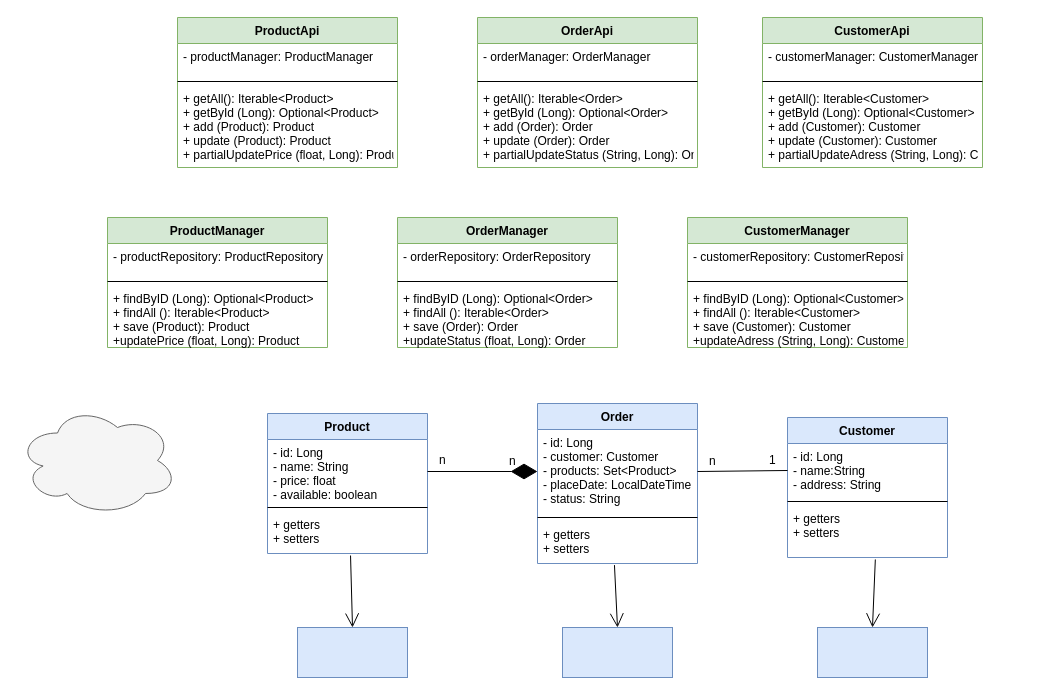
This 1038x695 diagram has some shape labels left out. Here are the shapes that lost their labels. From the top down, the centre of each, then its label:
At (97,460): "Legenda: niebieski- persistance zielony- business żółty- presentation".
At (352,652): "«interface» ProductRepository".
At (617,652): "«interface» OrderRepository".
At (872,652): "«interface» CutomerRepository".
